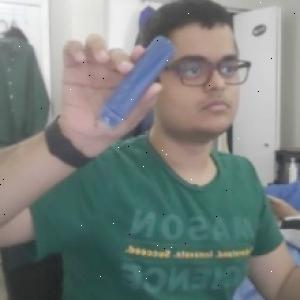Diamond-E-Ciggirate: (95, 34, 175, 132)
